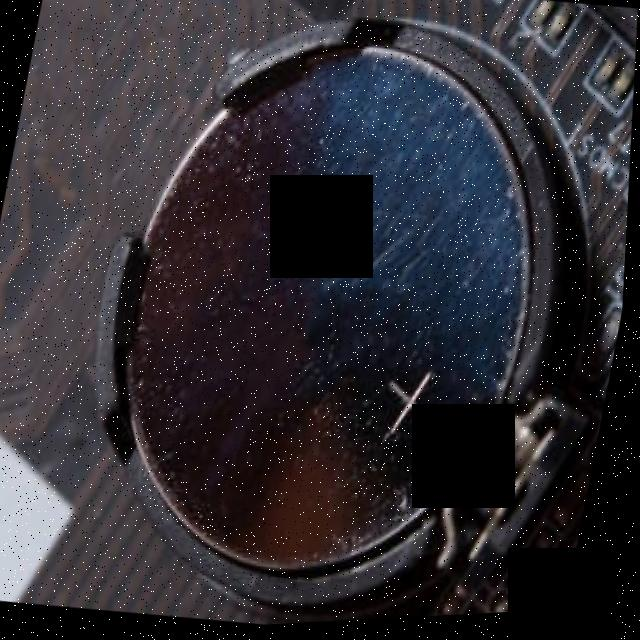battery: (59, 4, 600, 631)
